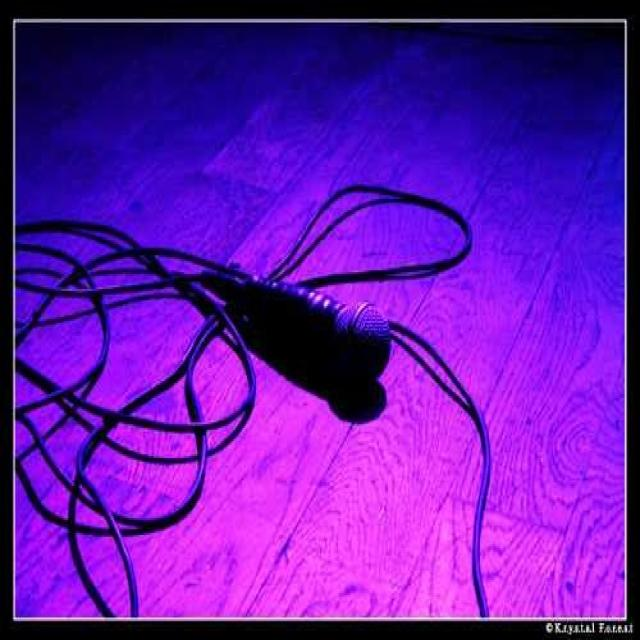microphone: (200, 270, 392, 420)
